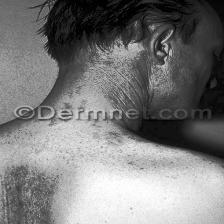Toxin: (2, 167, 45, 224), (104, 51, 144, 77), (103, 131, 135, 145)
